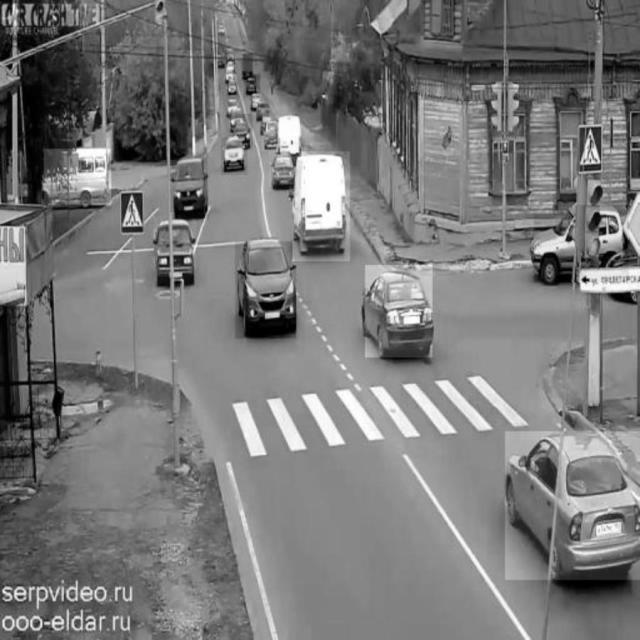vehicle: (505, 431, 639, 579), (534, 206, 628, 283), (293, 152, 350, 262), (366, 265, 433, 357), (236, 241, 297, 339), (44, 149, 111, 205), (154, 217, 196, 291), (171, 153, 208, 213), (269, 152, 296, 192), (222, 138, 248, 175), (262, 115, 280, 151), (236, 114, 253, 146), (227, 75, 243, 99), (244, 74, 260, 98)
